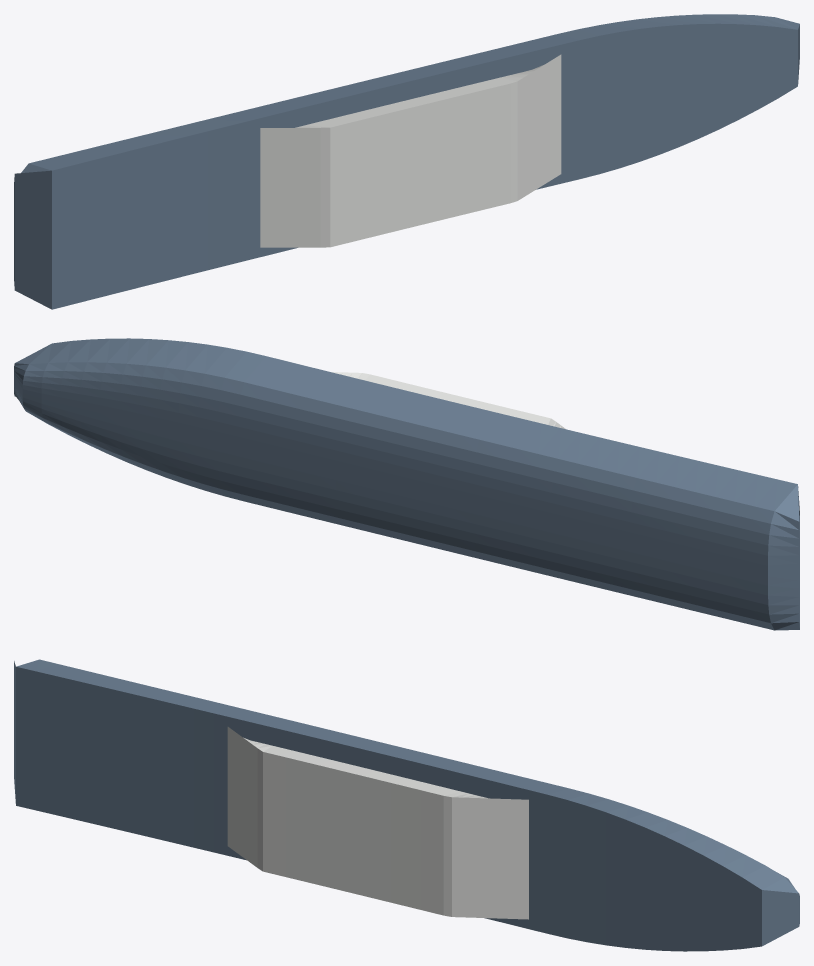
The model's file is loft-barge-slender.glb.
The picture shows the model from 3 angles, top to bottom: view 1: azimuth 30°, elevation 25°; view 2: azimuth 150°, elevation 25°; view 3: azimuth 330°, elevation 25°; orthographic projection.
Parts seen in each view (by area): view 1: barge-loft-slender; view 2: barge-loft-slender; view 3: barge-loft-slender.
Part boxes in pixels (bbox=[...]): barge-loft-slender: bbox=[14, 14, 799, 309]; barge-loft-slender: bbox=[14, 338, 799, 630]; barge-loft-slender: bbox=[14, 659, 799, 951].
Size of the model in its own units: 1.89 by 0.32 by 0.1905.
